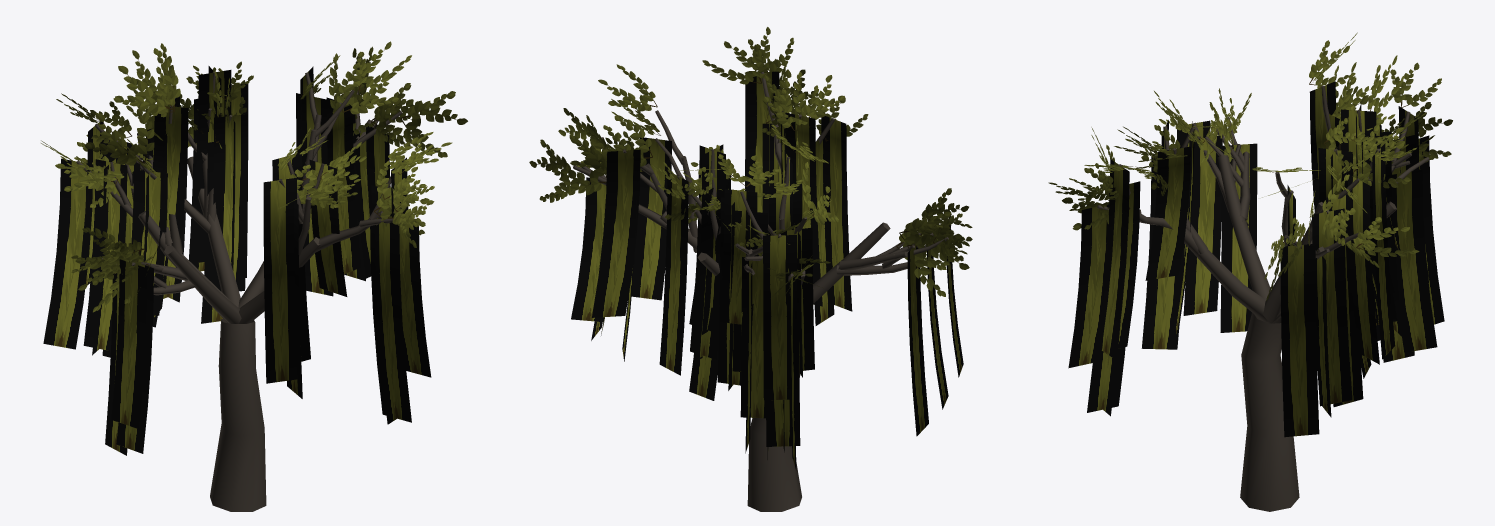
File: willow_1_burnt2.glb
3 views of the same model, side by side, from view 1: azimuth 30°, elevation 25°; view 2: azimuth 150°, elevation 25°; view 3: azimuth 270°, elevation 25° (orthographic). The views are drawn at different scales.
Visible parts, largest first — view 1: willow_1_burnt2; view 2: willow_1_burnt2; view 3: willow_1_burnt2.
Boxes of the visible parts, x1=… form: willow_1_burnt2: x1=41, y1=41, x2=467, y2=511; willow_1_burnt2: x1=529, y1=27, x2=972, y2=511; willow_1_burnt2: x1=1048, y1=32, x2=1452, y2=511.
Size of the model in its own units: 8.89 by 8.54 by 7.65.
3 materials, 2 textured.
